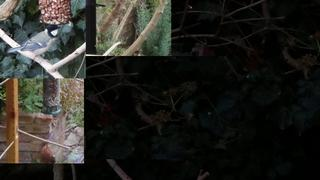great tit: (6, 24, 62, 65)
